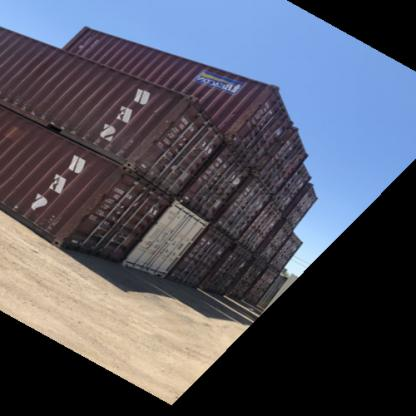Damage: (134, 122, 168, 150)
